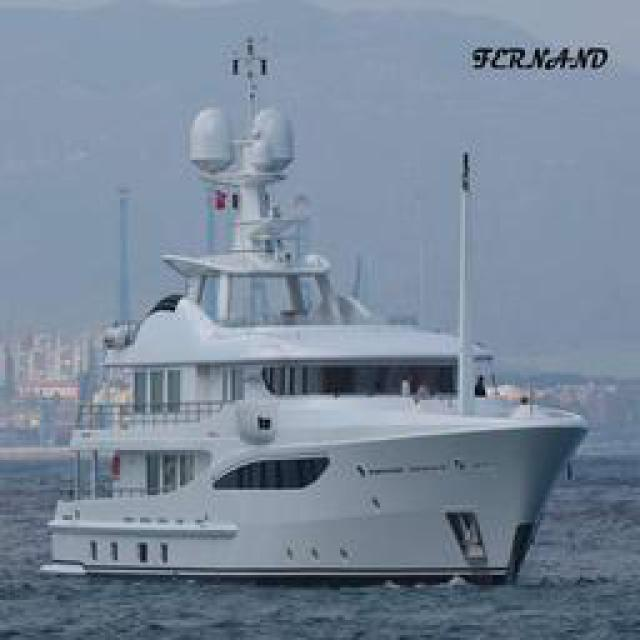Ship: (32, 118, 590, 586)
